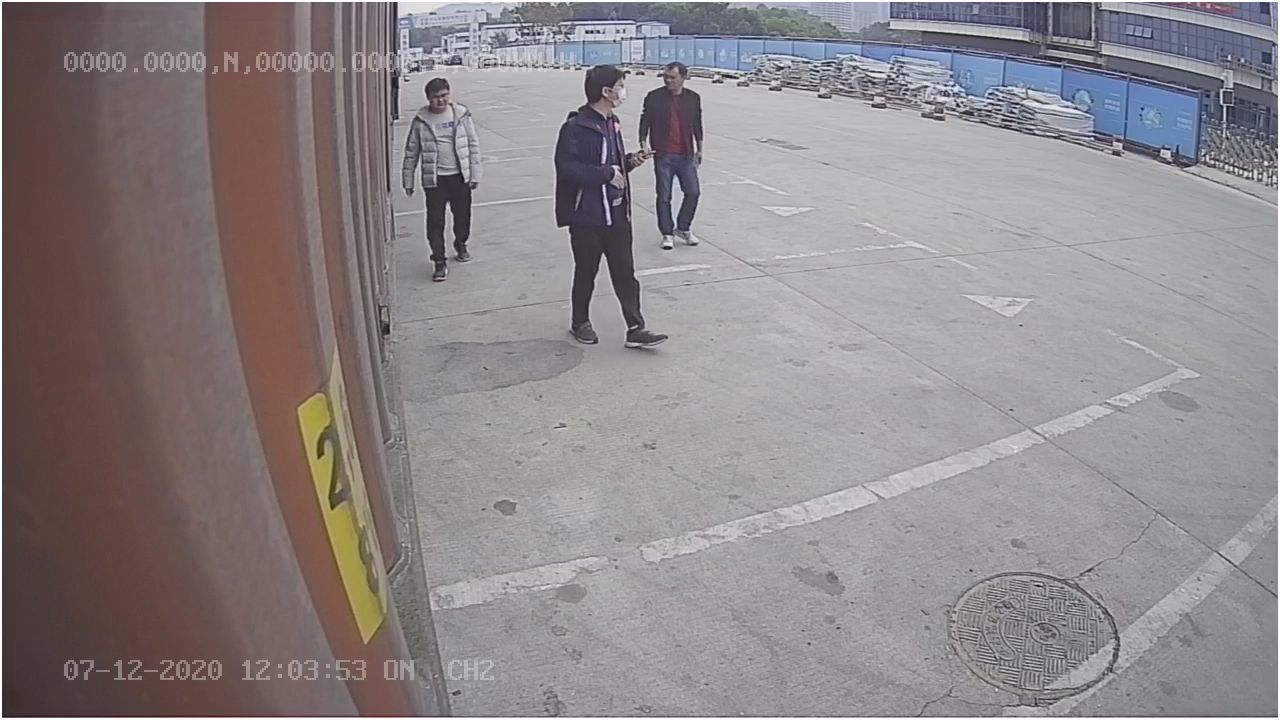person: (550, 64, 661, 361)
